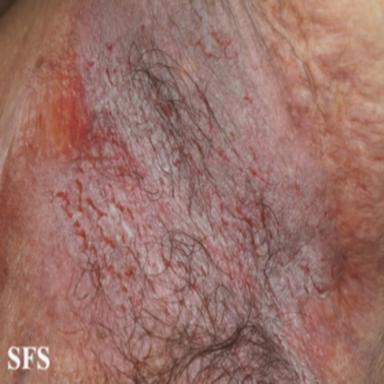Hailey-Hailey-Disease: (48, 5, 344, 384)
